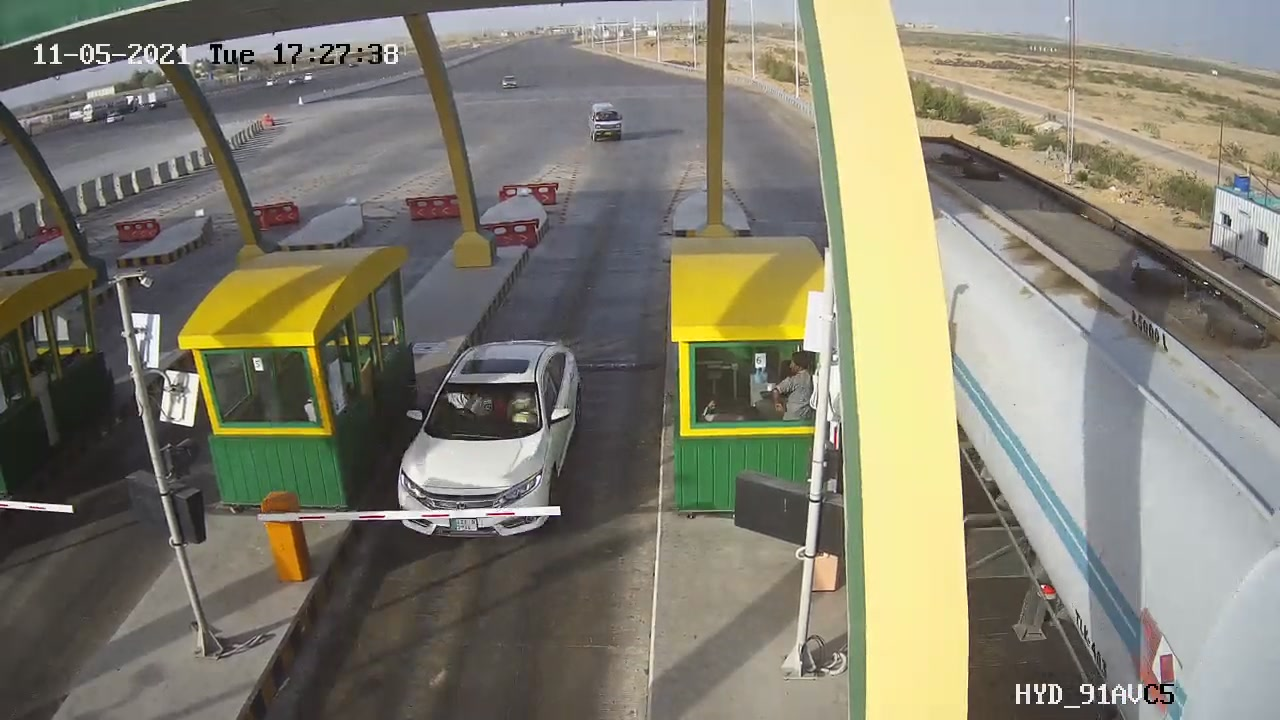F1: (374, 326, 607, 553)
